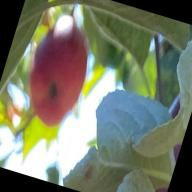Apples: (15, 8, 102, 132)
